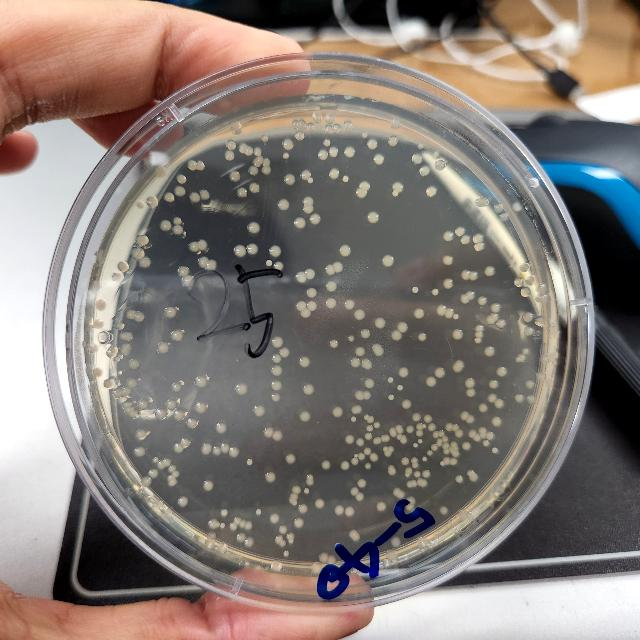colony: (194, 374, 210, 390), (136, 428, 150, 442), (157, 341, 170, 354), (272, 428, 284, 442), (201, 442, 213, 456), (194, 402, 208, 414), (106, 344, 118, 358), (138, 256, 152, 268), (182, 274, 194, 288), (269, 245, 281, 258), (344, 146, 356, 158), (248, 222, 260, 234), (246, 243, 258, 255), (234, 245, 246, 257), (354, 308, 366, 320), (298, 355, 310, 367), (272, 336, 284, 348), (332, 406, 344, 418), (244, 536, 256, 548), (208, 518, 220, 530), (202, 479, 214, 491), (228, 445, 240, 457), (236, 383, 248, 395), (271, 560, 283, 572), (134, 446, 146, 458), (171, 329, 183, 341), (165, 307, 177, 319), (120, 343, 132, 355), (132, 248, 144, 260), (136, 234, 148, 246), (178, 265, 190, 277), (205, 259, 217, 271), (146, 196, 158, 208), (155, 166, 167, 178), (248, 182, 260, 194), (282, 138, 294, 150), (231, 123, 243, 135), (304, 382, 314, 396), (391, 118, 402, 130), (382, 255, 393, 267), (327, 280, 338, 292), (180, 437, 192, 448), (216, 422, 227, 434), (156, 407, 167, 419), (138, 398, 150, 409), (92, 367, 104, 378), (128, 358, 140, 369), (95, 298, 106, 310), (174, 186, 186, 197), (187, 418, 200, 428), (119, 332, 133, 341), (497, 367, 508, 378), (284, 174, 296, 184), (277, 200, 289, 210), (294, 218, 306, 228), (310, 213, 320, 225), (368, 138, 378, 150), (340, 244, 350, 256), (305, 268, 315, 280), (414, 308, 424, 320), (179, 495, 189, 507), (254, 406, 266, 416), (272, 364, 282, 376), (494, 398, 506, 408), (436, 304, 446, 316), (484, 346, 496, 356), (476, 197, 488, 207), (417, 538, 429, 548), (312, 562, 322, 574), (218, 542, 228, 554), (173, 410, 185, 420), (166, 399, 178, 409), (126, 378, 138, 388), (104, 378, 116, 388), (112, 272, 124, 282), (198, 256, 208, 268), (198, 239, 208, 251), (160, 220, 172, 230), (200, 188, 210, 200), (230, 170, 240, 182), (238, 142, 248, 154), (358, 180, 369, 190), (420, 166, 430, 177), (392, 331, 402, 342), (362, 358, 372, 369), (300, 411, 310, 422), (264, 427, 274, 438), (286, 452, 296, 463), (220, 442, 230, 453), (399, 367, 409, 378), (452, 328, 462, 339), (442, 255, 453, 265), (426, 186, 436, 197), (387, 550, 398, 560), (163, 192, 174, 202), (302, 197, 314, 206), (392, 536, 401, 548), (92, 280, 101, 292), (329, 168, 339, 178), (356, 188, 366, 198), (328, 147, 338, 157), (318, 150, 328, 160), (374, 154, 384, 164), (388, 136, 398, 146), (412, 153, 422, 163), (393, 182, 403, 192), (368, 212, 378, 222), (333, 262, 343, 272), (296, 272, 306, 282), (307, 288, 317, 298), (326, 298, 336, 308), (344, 299, 354, 309), (307, 301, 317, 311), (296, 301, 306, 311), (301, 308, 311, 318), (397, 322, 407, 332), (355, 346, 365, 356), (374, 346, 384, 356), (350, 357, 360, 367), (345, 434, 355, 444), (266, 472, 276, 482), (334, 505, 344, 515), (345, 506, 355, 516), (270, 514, 280, 524), (294, 518, 304, 528), (319, 553, 329, 563), (326, 554, 336, 564), (376, 502, 386, 512), (406, 496, 416, 506), (236, 532, 246, 542), (212, 446, 222, 456), (272, 380, 282, 390), (354, 391, 364, 401), (364, 378, 374, 388), (402, 399, 412, 409), (426, 376, 436, 386), (460, 410, 470, 420), (492, 416, 502, 426), (465, 378, 475, 388), (435, 367, 445, 377), (489, 379, 499, 389), (444, 308, 454, 318), (496, 318, 506, 328), (486, 315, 496, 325), (491, 303, 501, 313), (477, 295, 487, 305), (466, 290, 476, 300), (460, 294, 470, 304), (443, 279, 453, 289), (484, 266, 494, 276), (474, 242, 484, 252), (474, 233, 484, 243), (461, 234, 471, 244), (443, 231, 453, 241), (435, 160, 445, 170), (499, 212, 509, 222), (512, 202, 522, 212), (521, 287, 531, 297), (536, 284, 546, 294), (540, 294, 550, 304), (523, 312, 533, 322), (535, 316, 545, 326), (536, 372, 546, 382), (526, 394, 536, 404), (458, 510, 468, 520), (142, 476, 152, 486), (148, 468, 158, 478), (171, 382, 181, 392), (122, 386, 132, 396), (134, 312, 144, 322), (126, 309, 136, 319), (94, 319, 104, 329), (174, 443, 184, 453), (118, 261, 128, 271), (190, 242, 200, 252), (173, 225, 183, 235), (190, 192, 200, 202), (225, 151, 235, 161), (237, 187, 247, 197), (249, 166, 259, 176), (295, 130, 305, 140), (312, 113, 322, 123), (452, 363, 463, 372), (302, 205, 314, 213), (326, 264, 334, 276), (98, 248, 104, 264), (299, 119, 307, 131), (307, 122, 315, 134), (343, 121, 352, 131), (360, 329, 370, 338), (372, 343, 382, 352), (298, 503, 308, 512), (358, 478, 367, 488), (322, 460, 331, 470), (369, 452, 378, 462), (478, 403, 488, 412), (466, 388, 476, 397), (493, 204, 503, 213), (227, 140, 236, 150), (280, 347, 288, 358), (90, 342, 98, 353), (423, 413, 432, 422), (488, 393, 497, 402), (302, 170, 310, 180), (333, 123, 341, 133), (326, 114, 334, 124), (274, 262, 284, 270), (376, 318, 384, 328), (272, 354, 282, 362), (292, 486, 302, 494), (316, 498, 324, 508), (351, 486, 359, 496), (340, 461, 350, 469), (348, 529, 358, 537), (244, 520, 252, 530), (272, 392, 280, 402), (352, 406, 362, 414), (413, 412, 421, 422), (396, 424, 404, 434), (400, 434, 408, 444), (449, 446, 459, 454), (442, 456, 450, 466), (466, 414, 474, 424), (474, 324, 484, 332), (418, 332, 426, 342), (461, 270, 469, 280), (470, 271, 478, 281), (455, 228, 465, 236), (514, 278, 524, 286), (520, 264, 530, 272), (526, 276, 534, 286), (524, 326, 532, 336), (540, 354, 548, 364), (205, 540, 215, 548), (163, 457, 171, 467), (168, 478, 178, 486), (122, 401, 132, 409), (114, 388, 122, 398), (188, 160, 196, 170), (196, 160, 204, 170), (254, 146, 262, 156), (245, 146, 253, 156), (382, 434, 391, 442), (439, 506, 448, 514), (462, 442, 470, 451), (486, 432, 494, 441), (468, 429, 476, 438), (526, 379, 534, 388), (515, 393, 523, 402), (157, 459, 165, 468), (130, 409, 138, 418), (125, 406, 134, 414), (178, 174, 186, 183), (240, 518, 247, 528), (364, 390, 371, 400), (325, 125, 333, 133), (330, 340, 338, 348), (366, 424, 374, 432), (364, 432, 372, 440), (356, 438, 364, 446), (356, 493, 364, 501), (279, 526, 287, 534), (286, 532, 294, 540), (275, 536, 283, 544), (358, 452, 366, 460), (397, 491, 405, 499), (406, 503, 414, 511), (234, 517, 242, 525), (230, 522, 238, 530), (220, 509, 228, 517), (406, 426, 414, 434), (373, 436, 381, 444), (401, 457, 409, 465), (422, 469, 430, 477), (428, 423, 436, 431), (455, 429, 463, 437), (442, 442, 450, 450), (452, 450, 460, 458), (450, 457, 458, 465), (473, 434, 481, 442), (456, 359, 464, 367), (491, 313, 499, 321), (518, 354, 526, 362), (470, 473, 478, 481), (383, 558, 391, 566), (208, 532, 216, 540), (169, 465, 177, 473), (172, 470, 180, 478), (116, 322, 124, 330), (156, 500, 164, 508), (174, 217, 182, 225), (263, 158, 271, 166), (262, 166, 270, 174), (256, 156, 264, 164), (253, 158, 261, 166), (394, 488, 401, 497), (474, 332, 484, 338), (546, 378, 552, 388), (254, 564, 264, 570), (292, 120, 298, 130), (324, 139, 331, 147), (416, 429, 424, 436), (414, 470, 421, 478), (452, 424, 460, 431), (168, 474, 176, 481), (412, 286, 418, 294), (432, 288, 438, 296), (368, 416, 374, 424), (247, 458, 253, 466), (306, 479, 314, 485), (290, 493, 298, 499), (288, 497, 296, 503), (283, 550, 289, 558), (352, 534, 360, 540), (351, 458, 359, 464), (364, 448, 372, 454), (388, 469, 396, 475), (384, 451, 392, 457), (417, 422, 423, 430), (410, 457, 418, 463), (406, 466, 412, 474), (432, 430, 438, 438), (432, 444, 438, 452), (406, 480, 412, 488), (417, 478, 423, 486), (421, 479, 427, 487), (456, 475, 462, 483), (446, 423, 452, 431), (450, 441, 458, 447), (482, 440, 490, 446), (478, 427, 486, 433), (474, 338, 482, 344), (536, 294, 542, 302), (467, 470, 475, 476), (138, 201, 144, 209), (389, 426, 396, 432), (438, 429, 444, 436), (343, 176, 349, 182), (307, 178, 313, 184), (362, 132, 368, 138), (418, 142, 424, 148), (434, 152, 440, 158), (392, 190, 398, 196), (266, 260, 272, 266), (348, 336, 354, 342), (350, 416, 356, 422), (364, 414, 370, 420), (374, 422, 380, 428), (307, 474, 313, 480), (304, 488, 310, 494), (255, 509, 261, 515), (288, 538, 294, 544), (280, 540, 286, 546), (365, 463, 371, 469), (388, 464, 394, 470), (220, 522, 226, 528), (388, 377, 394, 383), (389, 394, 395, 400), (396, 433, 402, 439), (388, 446, 394, 452), (383, 446, 389, 452), (391, 432, 397, 438), (412, 463, 418, 469), (442, 436, 448, 442), (492, 447, 498, 453), (480, 433, 486, 439), (453, 314, 459, 320), (522, 348, 528, 354), (244, 560, 250, 566), (115, 356, 121, 362), (166, 508, 172, 514), (283, 153, 289, 159), (262, 136, 268, 142), (412, 479, 416, 487), (398, 385, 402, 391), (414, 442, 418, 448), (428, 450, 432, 456), (422, 457, 428, 461), (440, 462, 446, 466), (443, 450, 449, 454), (436, 442, 442, 446), (437, 438, 443, 442), (516, 356, 520, 362), (392, 559, 398, 563), (154, 457, 158, 463), (118, 370, 122, 376), (293, 501, 297, 505), (354, 453, 358, 457), (418, 439, 422, 443), (422, 424, 426, 428), (405, 473, 409, 477)
